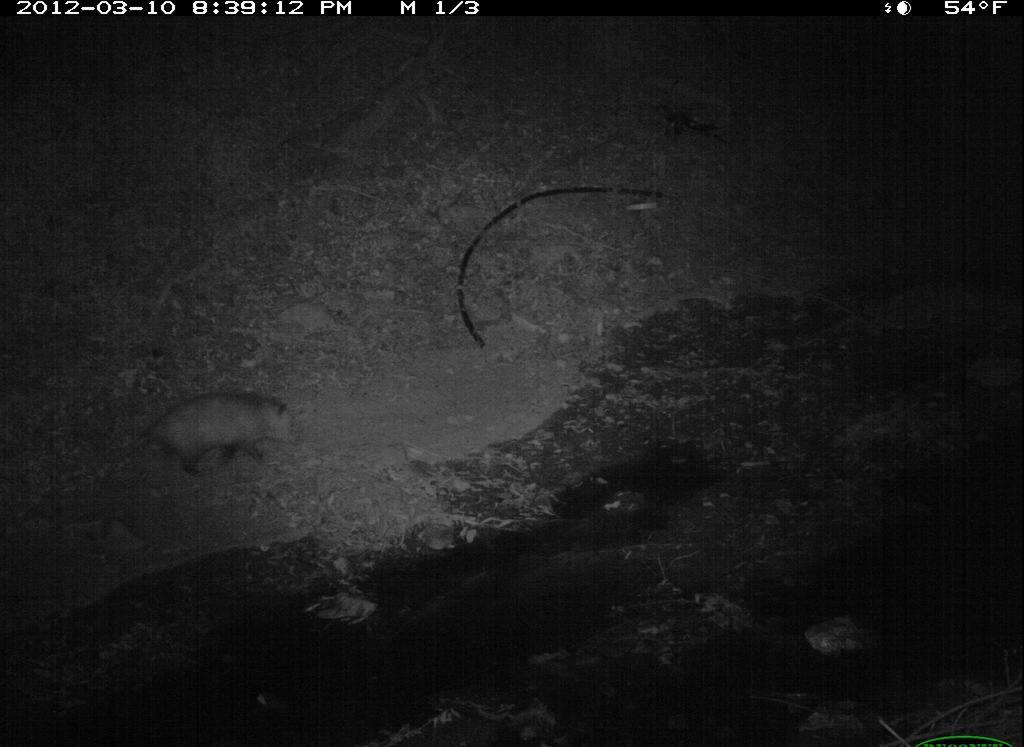opossum: (98, 387, 312, 483)
